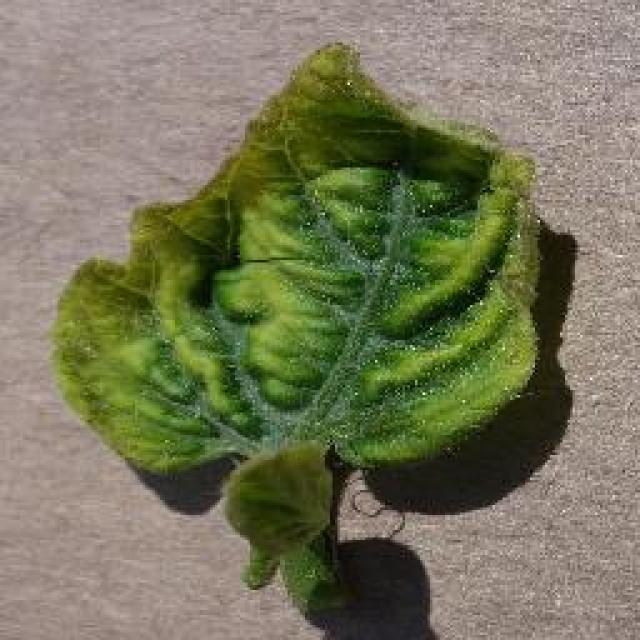Tom_Yellow_Leaf_Curl_Virus: (65, 89, 535, 490)
